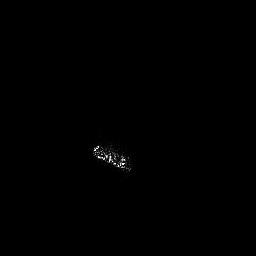ship: (90, 142, 134, 174)
